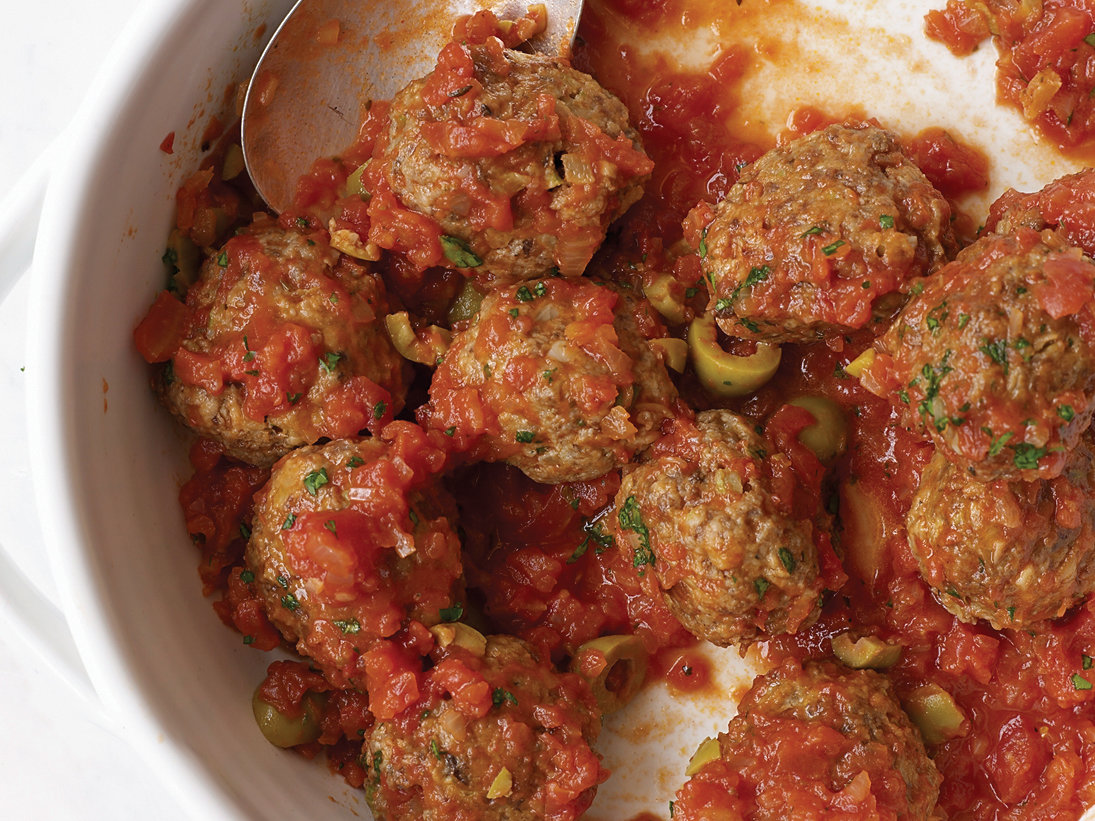meatballs: (172, 52, 1029, 771), (356, 44, 652, 285), (171, 227, 416, 466), (239, 440, 498, 657), (723, 126, 959, 351), (618, 410, 837, 645), (906, 231, 1093, 497), (657, 661, 963, 821), (446, 282, 676, 471), (908, 434, 1094, 647), (354, 669, 609, 821)
